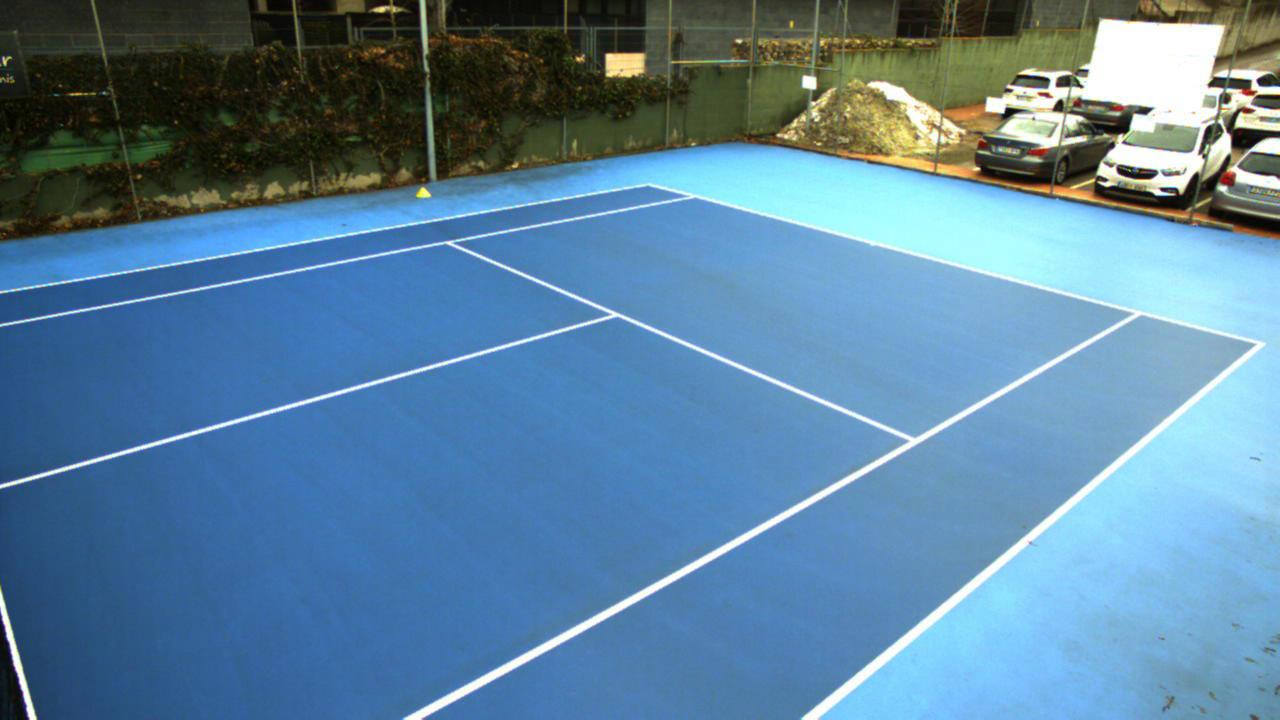cancha_tenis: (0, 194, 1143, 720)
point_f1: (679, 184, 705, 206)
point_f2: (1120, 299, 1150, 326)
point_fc1: (864, 234, 882, 252)
point_i1: (437, 232, 463, 255)
point_ic1: (887, 426, 928, 464), (595, 302, 631, 327)
